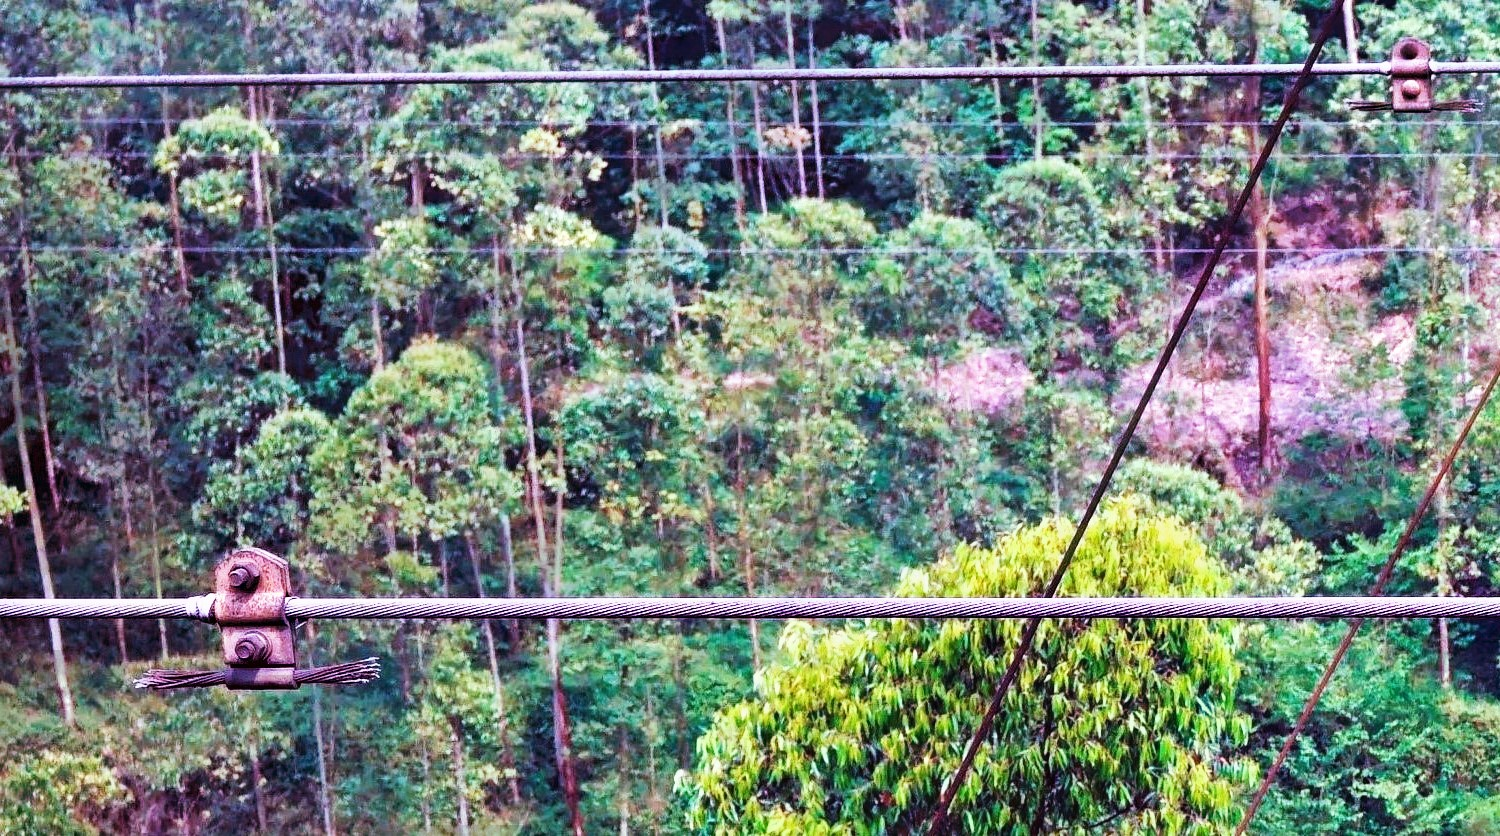Damage of shockproof hammer: (110, 530, 412, 719), (1341, 27, 1492, 128)
